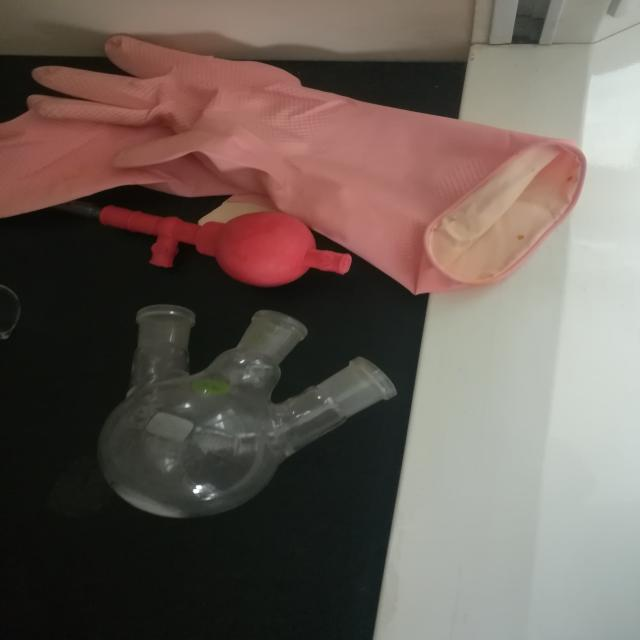Round_Bottom_Flask_Borosilicate_Glass_3_Neck: (48, 271, 449, 572)
Volumetric_Pipet: (74, 160, 384, 293)
